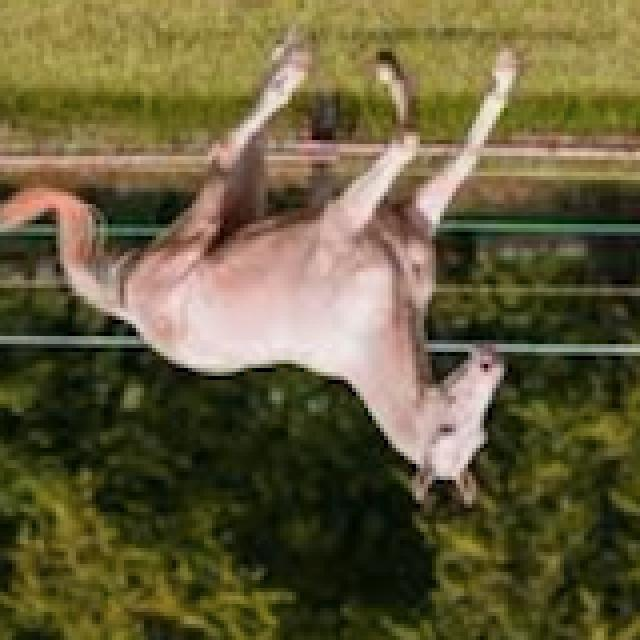Horse: (4, 24, 532, 512)
